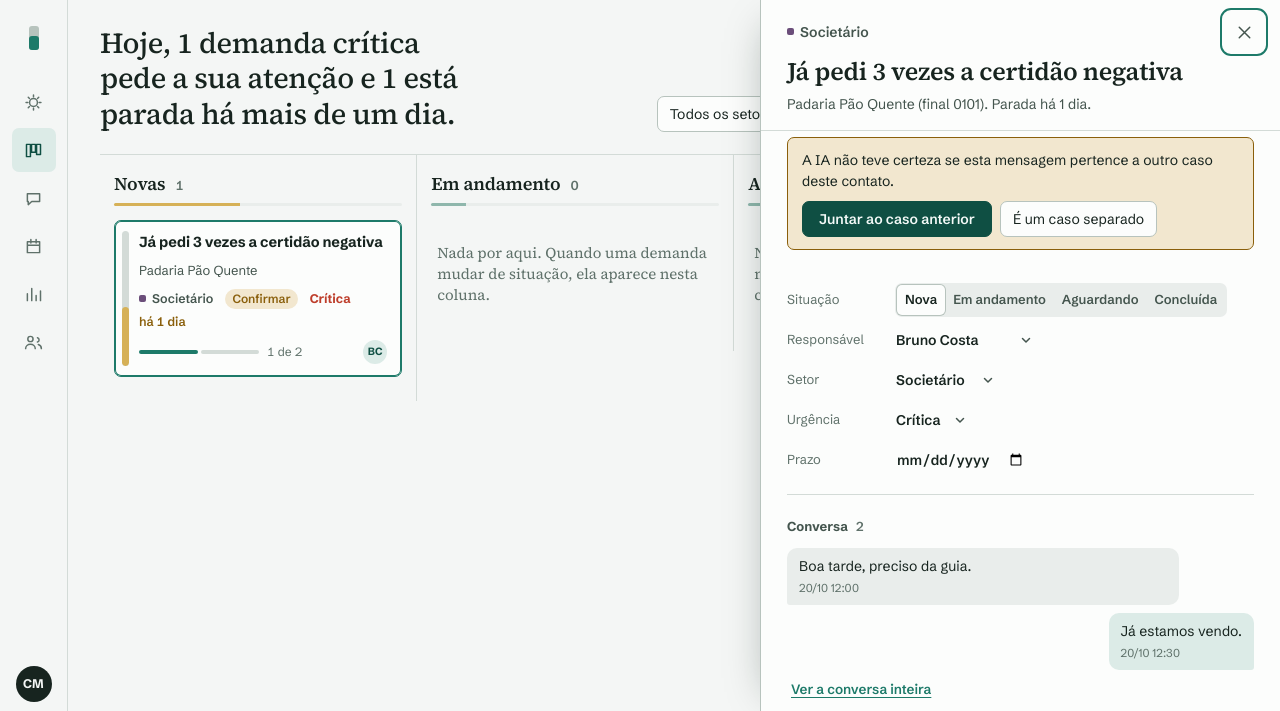
case drawer › asks to confirm an uncertain grouping and merges into the earlier case
The width and height of the screenshot is (1280, 711).
Expected: the message shows "não teve certeza", x1=802 y1=151 x2=1213 y2=190
Click the button "Juntar ao caso anterior".
click(897, 219)  # box x1=802 y1=201 x2=992 y2=237
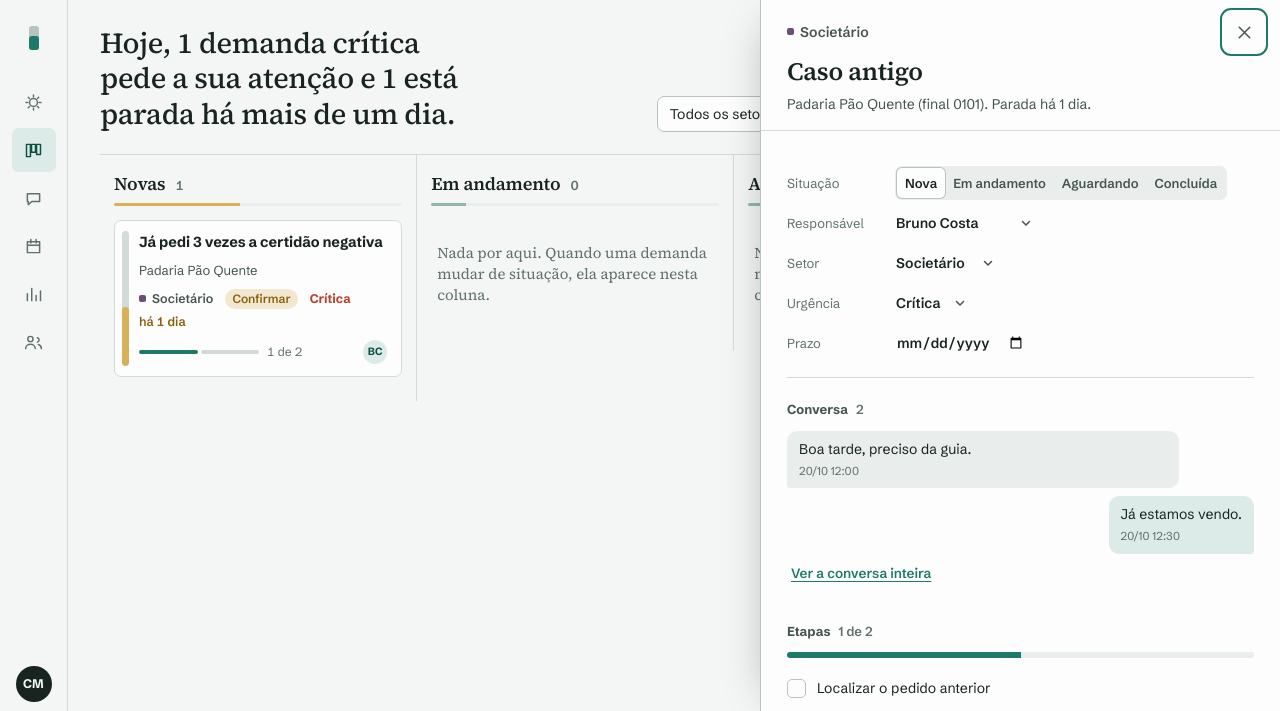
Expected: the heading "Caso antigo" is shown, x1=787 y1=54 x2=923 y2=88
